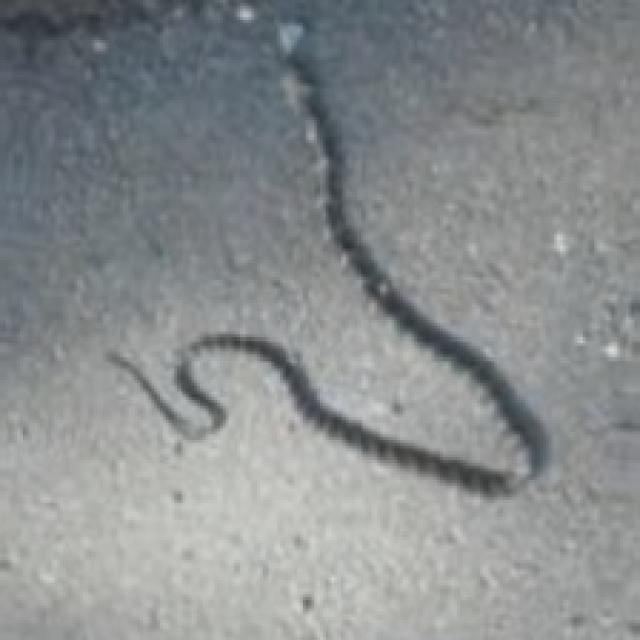king cobra: (183, 40, 549, 491), (106, 351, 223, 437)
